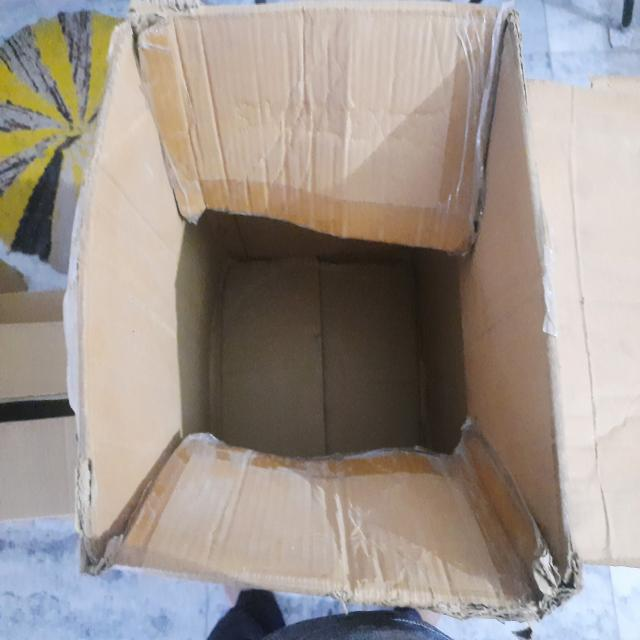tear: (74, 5, 570, 606)
